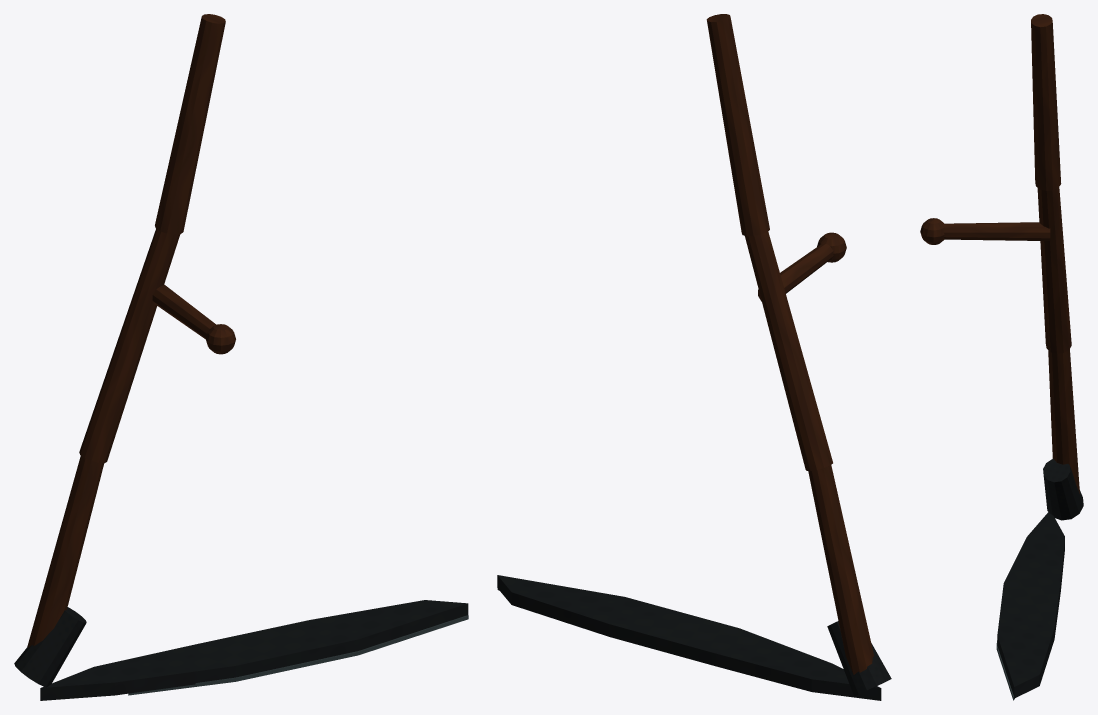
File: scythe.glb
The picture shows the model from 3 angles, left to right: view 1: azimuth 30°, elevation 25°; view 2: azimuth 150°, elevation 25°; view 3: azimuth 270°, elevation 25°; orthographic projection. The views are drawn at different scales.
Visible parts, largest first — view 1: CurvedBlade, CurvedSnath1, CurvedSnath2, CurvedSnath0, IronSocket, PolishedCuttingEdge, HandGrip, GripKnob; view 2: CurvedBlade, CurvedSnath1, CurvedSnath2, CurvedSnath0, IronSocket, HandGrip; view 3: CurvedBlade, CurvedSnath2, CurvedSnath1, CurvedSnath0, HandGrip, IronSocket, GripKnob.
Boxes of the visible parts, x1,y1,x2,y2 form: CurvedBlade: (40, 600, 468, 700); CurvedSnath1: (79, 229, 180, 463); CurvedSnath2: (155, 14, 225, 234); CurvedSnath0: (27, 455, 104, 647); IronSocket: (14, 607, 86, 687); PolishedCuttingEdge: (128, 615, 468, 695); HandGrip: (152, 284, 216, 338); GripKnob: (205, 324, 235, 354); CurvedBlade: (497, 575, 881, 700); CurvedSnath1: (745, 231, 832, 470); CurvedSnath2: (706, 14, 769, 236); CurvedSnath0: (808, 465, 873, 674); IronSocket: (827, 621, 891, 696); HandGrip: (758, 243, 833, 301); CurvedBlade: (997, 512, 1064, 698); CurvedSnath2: (1031, 14, 1061, 190); CurvedSnath1: (1037, 187, 1071, 353); CurvedSnath0: (1048, 349, 1079, 493); HandGrip: (943, 222, 1050, 241); IronSocket: (1043, 459, 1083, 520); GripKnob: (920, 218, 944, 244).
Bounding box in the file's own units: 1.03 × 1.51 × 0.3859.
3 materials, 3 textured.
